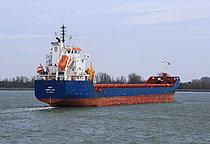Ship: (33, 19, 184, 111)
